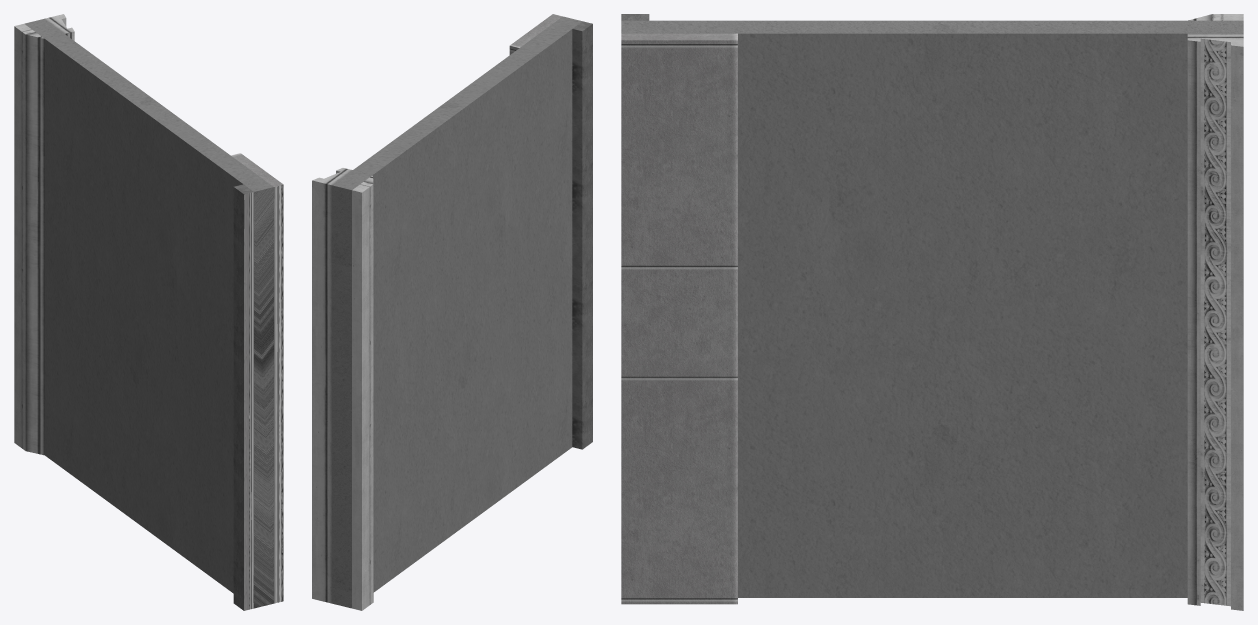
Rendered from A_wall_ 4m.fbx.
3 views of the same model, side by side, from view 1: azimuth 30°, elevation 25°; view 2: azimuth 150°, elevation 25°; view 3: azimuth 270°, elevation 25° (orthographic). The views are drawn at different scales.
Visible parts, largest first — view 1: A_wall__4m; view 2: A_wall__4m; view 3: A_wall__4m.
Boxes of the visible parts, x1,y1,x2,y2 form: A_wall__4m: (14,14,283,610); A_wall__4m: (312,14,592,610); A_wall__4m: (621,14,1243,610).
Bounding box in the file's own units: 0.5 × 4 × 4.
